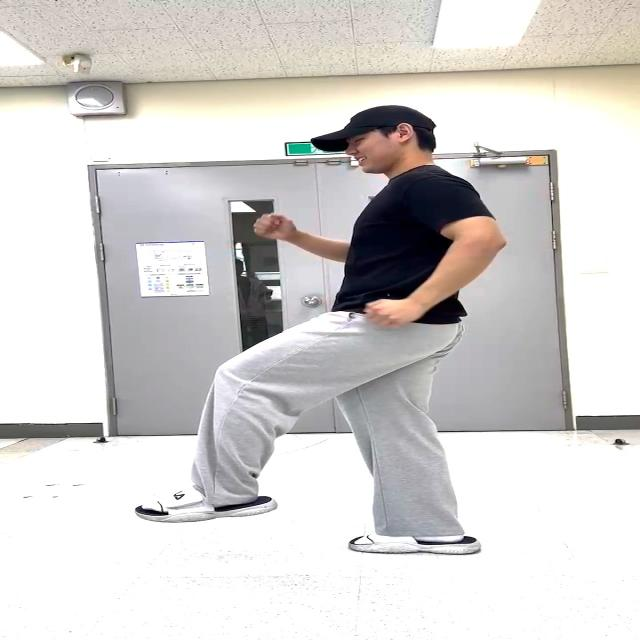leg: (123, 310, 367, 542)
